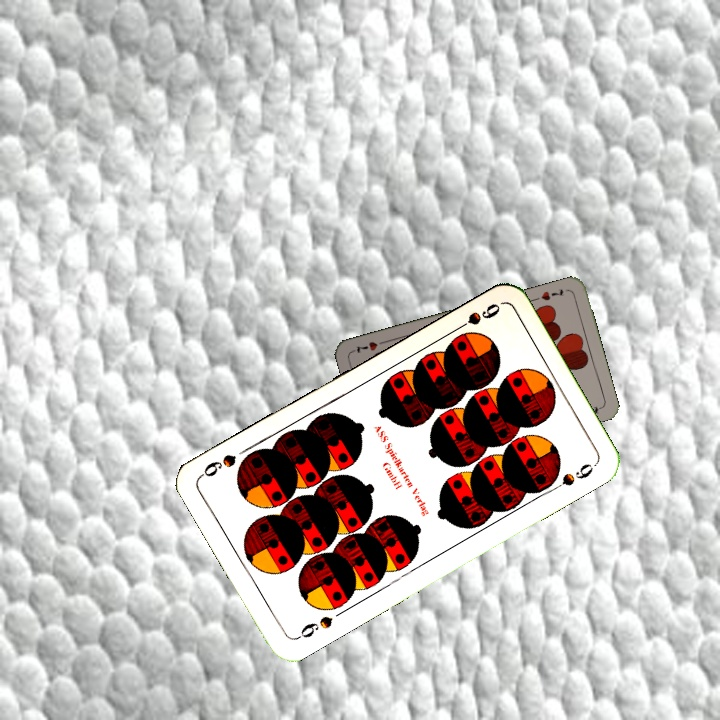H7: (537, 285, 566, 303)
S9: (448, 299, 503, 335), (292, 612, 336, 643)
